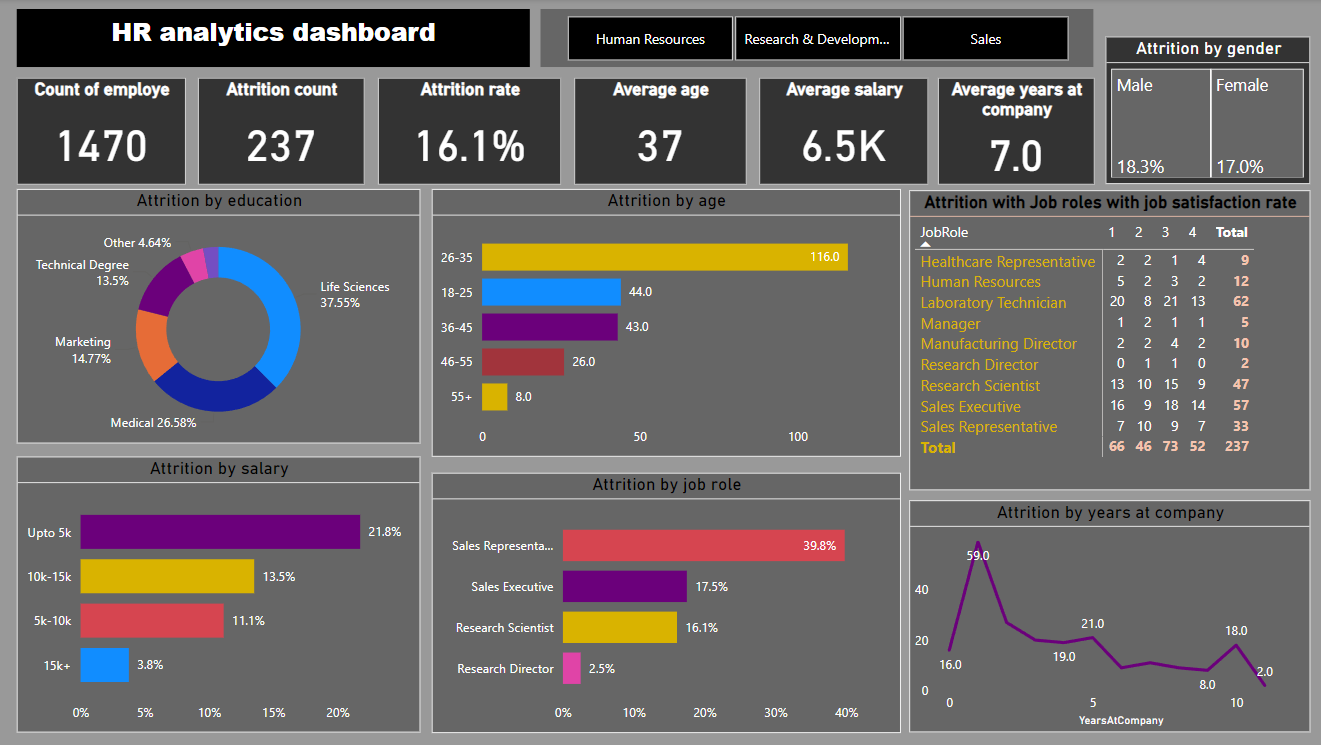

Layout of this report page (visuals, bound fields, positions):
{"tool":"powerbi","page":{"name":"Page 1","canvas":[1280,720],"ordinal":0},"visuals":[{"type":"card","title":"Count of employe","fields":{"Values":["Sum(HR_Analytics.EmployeeCount)"]},"box":[17.8,75.5,163.3,102.9],"z":0},{"type":"card","title":"Attrition count","fields":{"Values":["Sum(HR_Analytics.AttritionCount)"]},"box":[193.5,75.5,160.5,102.9],"z":1000},{"type":"card","title":"Attrition rate","fields":{"Values":["HR_Analytics.ATTRITION_RATE"]},"box":[366.4,75.5,177,102.9],"z":2000},{"type":"card","title":"Average age","fields":{"Values":["Avg(HR_Analytics.Age)"]},"box":[555.7,75.5,166,102.9],"z":3000},{"type":"card","title":"Average salary","fields":{"Values":["Avg(HR_Analytics.MonthlyIncome)"]},"box":[734.1,75.5,163.3,102.9],"z":4000},{"type":"card","title":"Average years at company","fields":{"Values":["Avg(HR_Analytics.YearsAtCompany)"]},"box":[907,75.5,150.9,102.9],"z":5000},{"type":"donutChart","title":"Attrition by education","fields":{"Category":["HR_Analytics.EducationField"],"Y":["Sum(HR_Analytics.AttritionCount)"]},"box":[17.8,183.9,389.7,245.6],"z":6000},{"type":"clusteredBarChart","title":"Attrition by age","fields":{"Category":["HR_Analytics.AgeGroup"],"Y":["Sum(HR_Analytics.AttritionCount)"]},"box":[418.6,183.4,452.4,258.2],"z":7000},{"type":"pivotTable","title":"Attrition with Job roles with job satisfaction rate","fields":{"Columns":["HR_Analytics.JobSatisfaction"],"Rows":["HR_Analytics.JobRole"],"Values":["Sum(HR_Analytics.AttritionCount)"]},"box":[879.5,184.6,387.3,289.5],"z":8000},{"type":"clusteredBarChart","title":"Attrition by salary","fields":{"Category":["HR_Analytics.SalarySlab"],"Y":["HR_Analytics.ATTRITION_RATE"]},"box":[17.8,441.9,389.7,266.2],"z":9000},{"type":"clusteredBarChart","title":"Attrition by job role","fields":{"Y":["HR_Analytics.ATTRITION_RATE"],"Category":["HR_Analytics.JobRole"]},"box":[418.6,457.2,452.4,250.9],"z":10000},{"type":"areaChart","title":"Attrition by years at company","fields":{"Category":["HR_Analytics.YearsAtCompany"],"Y":["Sum(HR_Analytics.AttritionCount)"]},"box":[879.5,483.8,387.3,224.4],"z":11000},{"type":"treemap","title":"Attrition by gender","fields":{"Group":["HR_Analytics.Gender"],"Values":["HR_Analytics.ATTRITION_RATE"]},"box":[1069,35.7,197.6,142.7],"z":11001},{"type":"slicer","fields":{"Values":["HR_Analytics.Department"]},"box":[524.2,9.6,533.8,56.3],"z":11002},{"type":"textbox","box":[17.8,9.6,495.4,56.3],"z":11003}]}

Visuals, with their boxes in screenshot pixels (x1, y1, x2, y2), scaled from the page's 1280x720 canvas onto the 1321x745 screenshot:
"Count of employe" card: crop(18, 78, 187, 185)
"Attrition count" card: crop(200, 78, 365, 185)
"Attrition rate" card: crop(378, 78, 561, 185)
"Average age" card: crop(573, 78, 745, 185)
"Average salary" card: crop(758, 78, 926, 185)
"Average years at company" card: crop(936, 78, 1092, 185)
"Attrition by education" donutChart: crop(18, 190, 421, 444)
"Attrition by age" clusteredBarChart: crop(432, 190, 899, 457)
"Attrition with Job roles with job satisfaction rate" pivotTable: crop(908, 191, 1307, 491)
"Attrition by salary" clusteredBarChart: crop(18, 457, 421, 733)
"Attrition by job role" clusteredBarChart: crop(432, 473, 899, 733)
"Attrition by years at company" areaChart: crop(908, 501, 1307, 733)
"Attrition by gender" treemap: crop(1103, 37, 1307, 185)
slicer - HR_Analytics.Department: crop(541, 10, 1092, 68)
textbox: crop(18, 10, 530, 68)
